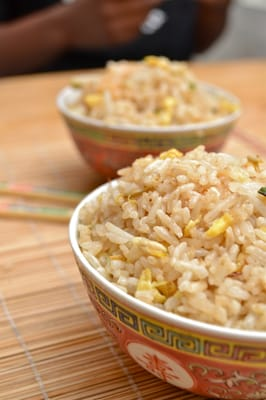sushi: (69, 146, 266, 400), (55, 56, 244, 181)
